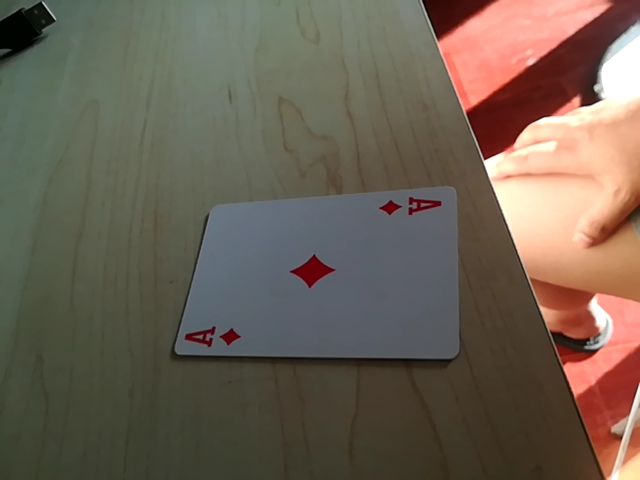fk a: (176, 324, 242, 354), (376, 195, 442, 219)
